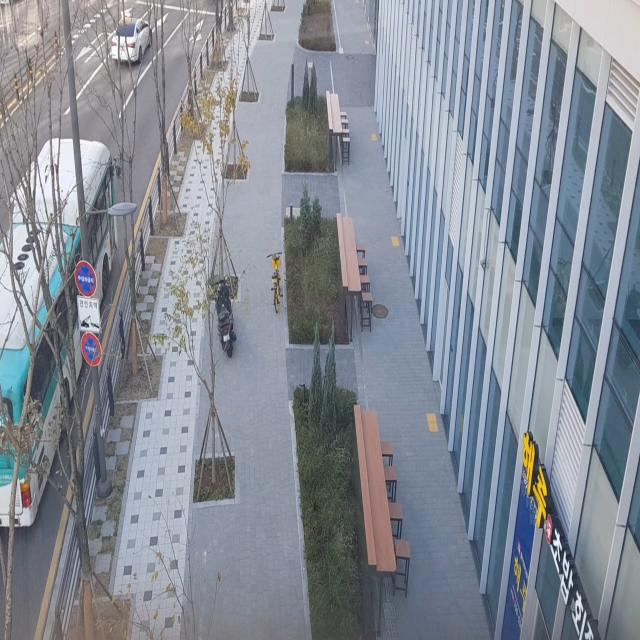Bus: (0, 123, 144, 573)
Car: (110, 1, 163, 78)
